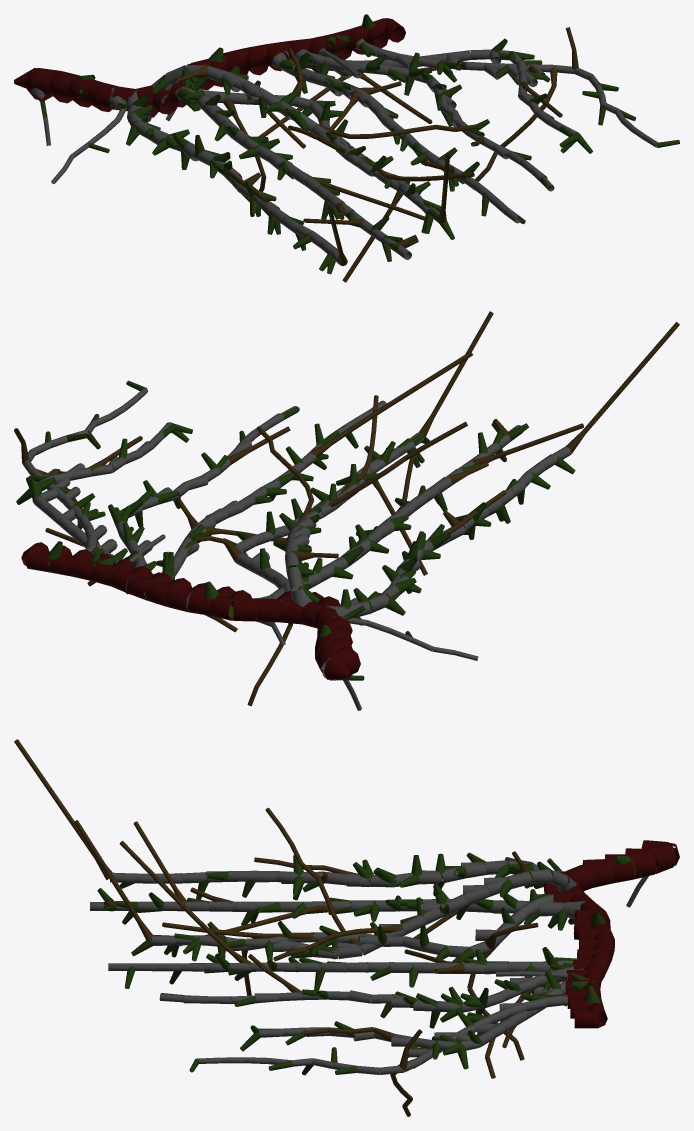
The model's file is tree_4.obj.
3 views of the same model, one above another, from view 1: azimuth 30°, elevation 25°; view 2: azimuth 150°, elevation 25°; view 3: azimuth 270°, elevation 25° (orthographic). The views are drawn at different scales.
Bounding box in the file's own units: 24.88 × 10.99 × 27.89.
